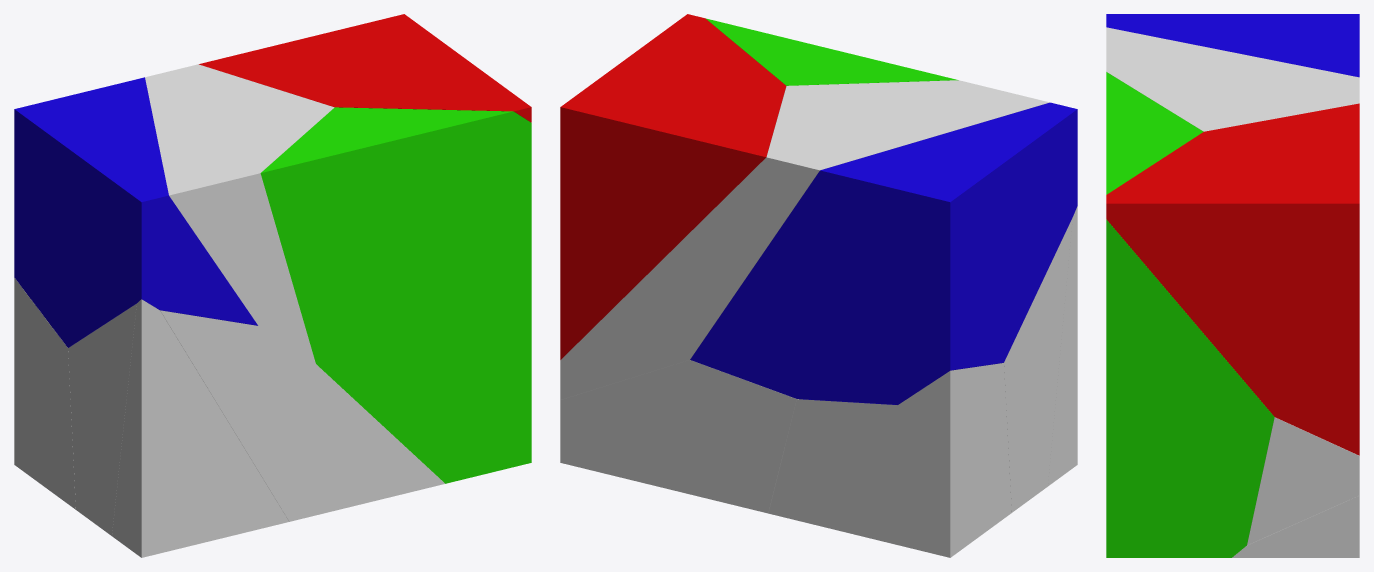
Rendered from Blocs_V1.glb.
The picture shows the model from 3 angles, left to right: view 1: azimuth 30°, elevation 25°; view 2: azimuth 150°, elevation 25°; view 3: azimuth 270°, elevation 25°; orthographic projection.
Visible parts, largest first — view 1: Cube_cell.002, Cube_cell, Cube_cell.001, Cube_cell.003, Cube_cell.008, Cube_cell.009, Cube_cell.005, Cube_cell.007; view 2: Cube_cell, Cube_cell.009, Cube_cell.001, Cube_cell.006, Cube_cell.007, Cube_cell.004, Cube_cell.005, Cube_cell.002, Cube_cell.008; view 3: Cube_cell.009, Cube_cell.002, Cube_cell.001, Cube_cell, Cube_cell.006.
Part boxes in pixels (x1,y1,x2,y2): Cube_cell.002: (260, 107, 531, 483); Cube_cell: (14, 77, 257, 347); Cube_cell.001: (145, 64, 334, 364); Cube_cell.003: (160, 310, 444, 521); Cube_cell.008: (112, 299, 288, 557); Cube_cell.009: (199, 14, 531, 122); Cube_cell.005: (68, 304, 136, 535); Cube_cell.007: (14, 278, 75, 509); Cube_cell: (690, 102, 1077, 404); Cube_cell.009: (560, 14, 786, 359); Cube_cell.001: (560, 80, 1049, 399); Cube_cell.006: (560, 360, 798, 513); Cube_cell.007: (853, 363, 1011, 557); Cube_cell.004: (768, 399, 897, 533); Cube_cell.005: (1004, 218, 1072, 512); Cube_cell.002: (705, 18, 958, 85); Cube_cell.008: (1048, 206, 1077, 486); Cube_cell.009: (1106, 103, 1359, 455); Cube_cell.002: (1106, 72, 1274, 557); Cube_cell.001: (1106, 27, 1359, 545); Cube_cell: (1106, 14, 1359, 77); Cube_cell.006: (1232, 495, 1359, 557).
Size of the model in its own units: 6.24 by 5.44 by 3.52.
